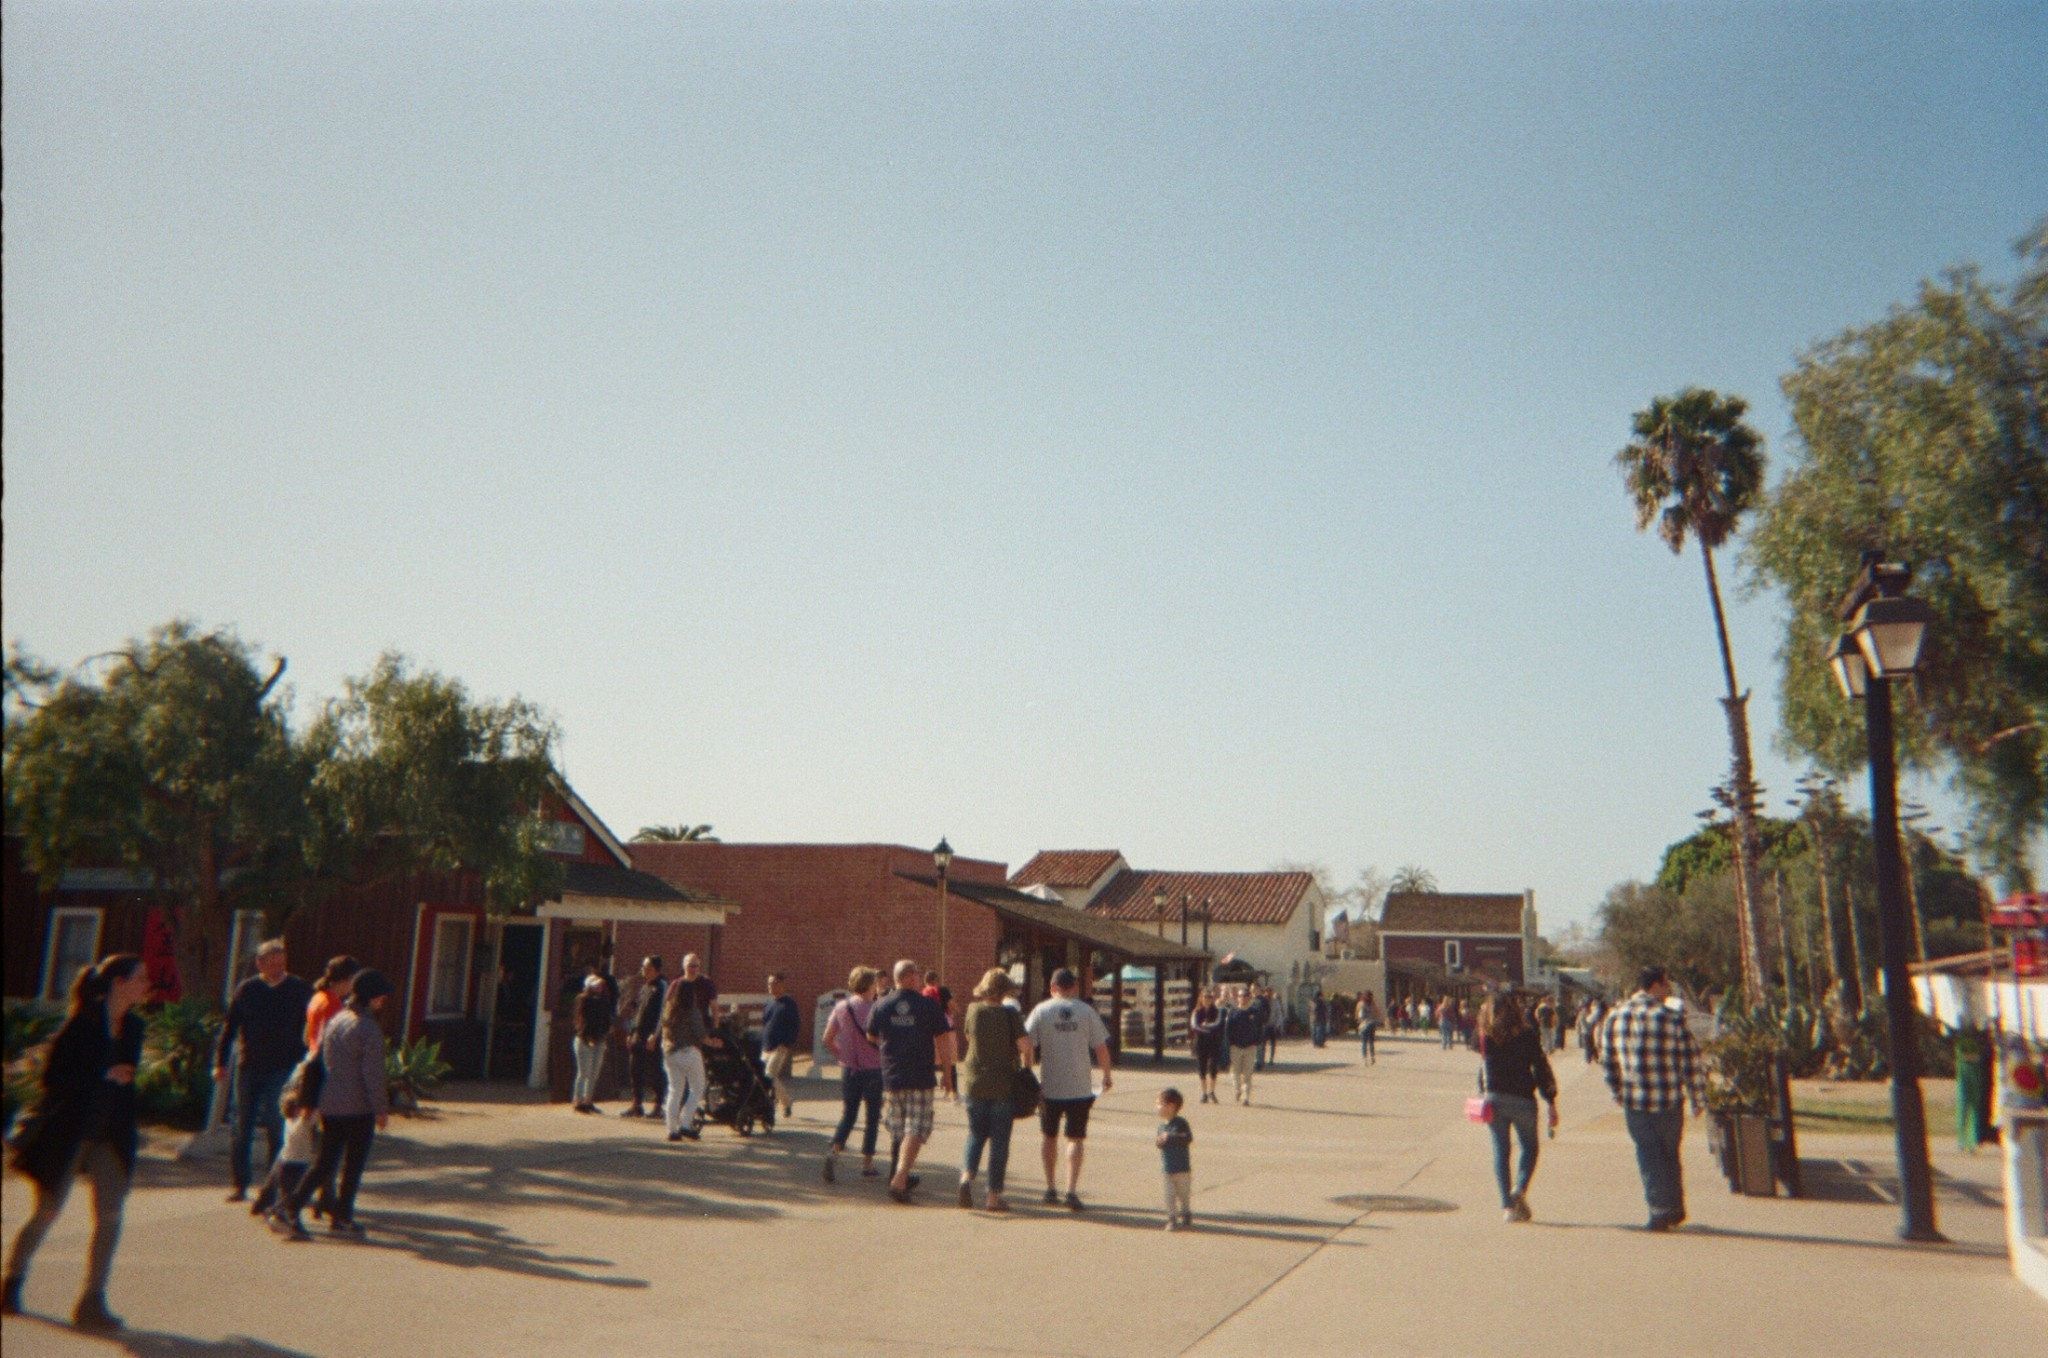people: (34, 957, 143, 1336), (1604, 971, 1702, 1239), (325, 966, 399, 1260), (1469, 992, 1563, 1216), (1037, 966, 1104, 1221), (963, 971, 1028, 1213), (299, 954, 346, 1251), (237, 945, 290, 1207), (825, 971, 884, 1180), (704, 1001, 772, 1133), (263, 1042, 313, 1221), (893, 957, 931, 1189), (660, 954, 702, 1151), (569, 963, 619, 1121), (622, 957, 669, 1124), (760, 971, 807, 1116), (1157, 1089, 1202, 1230), (916, 980, 966, 1107), (1181, 983, 1228, 1092), (1228, 983, 1260, 1101), (1352, 989, 1387, 1057)
